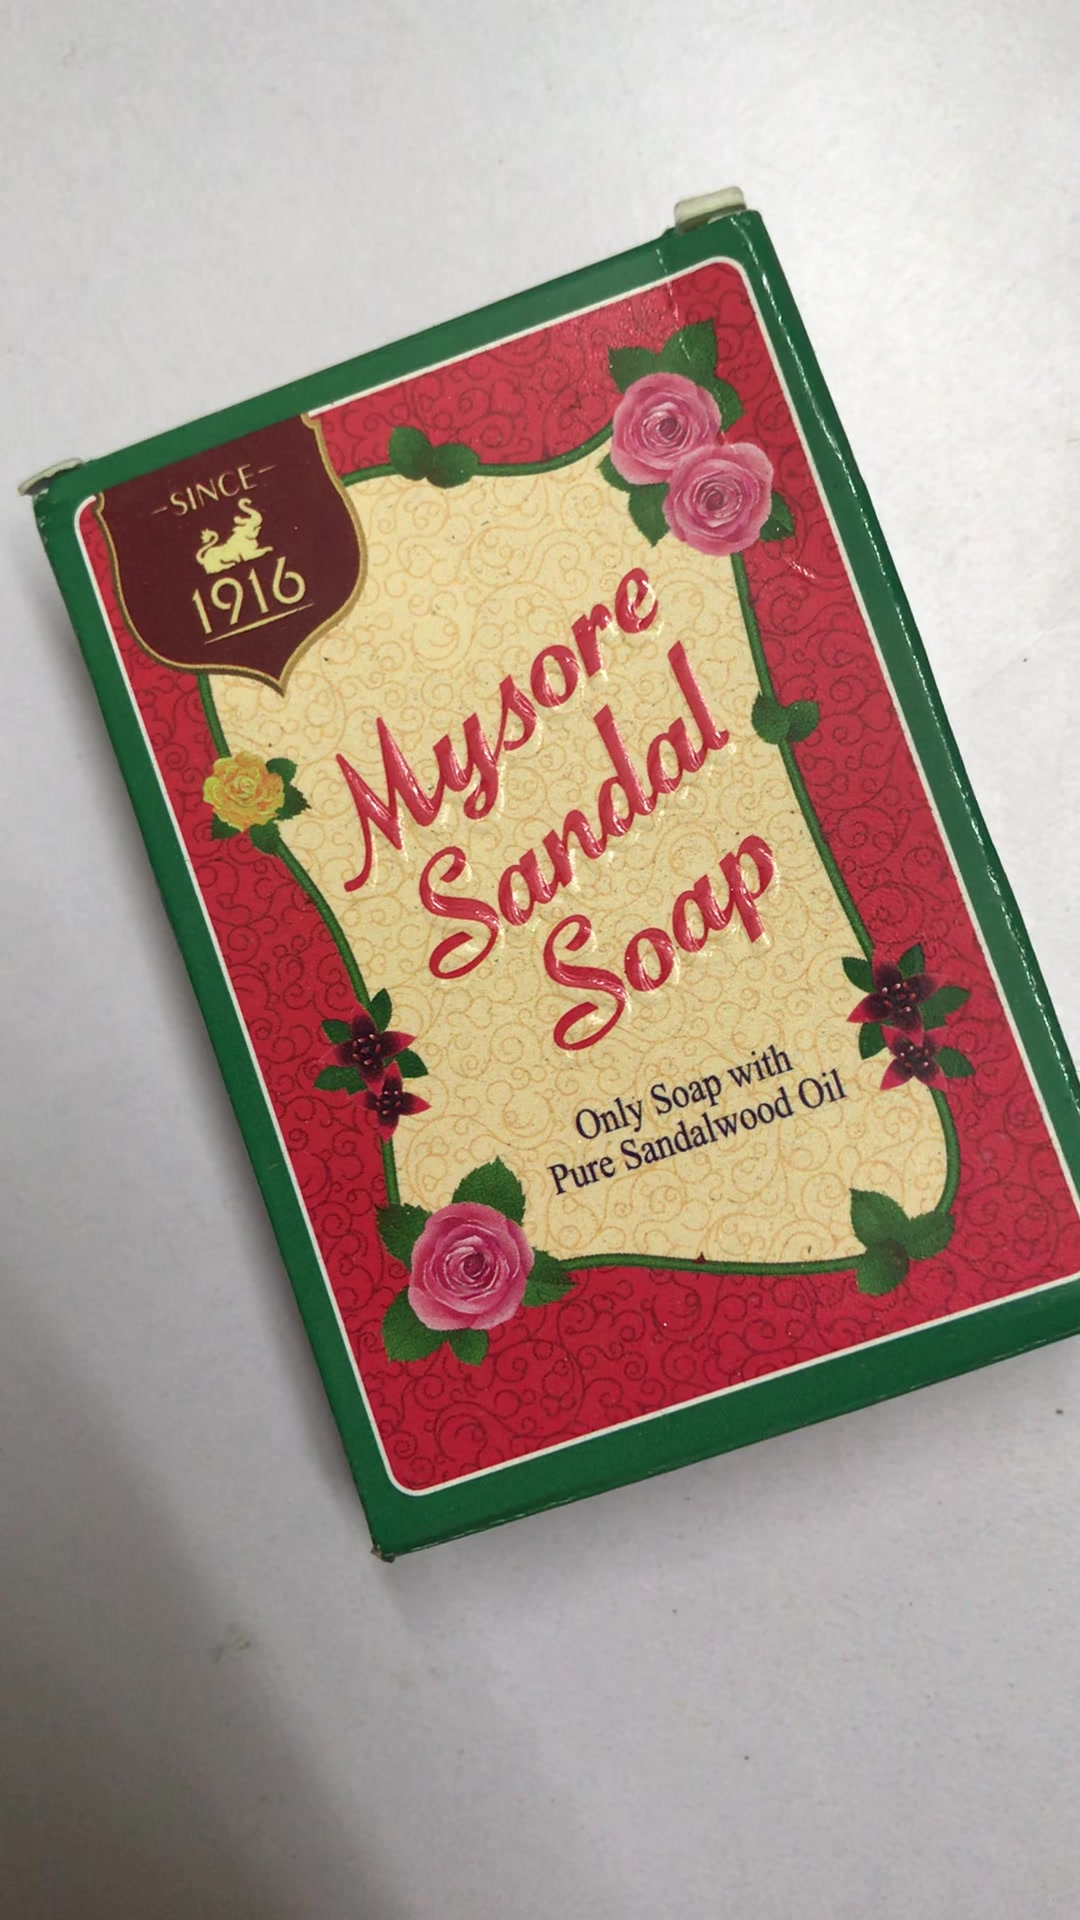mysore sandal soap: (38, 200, 1080, 1563)
